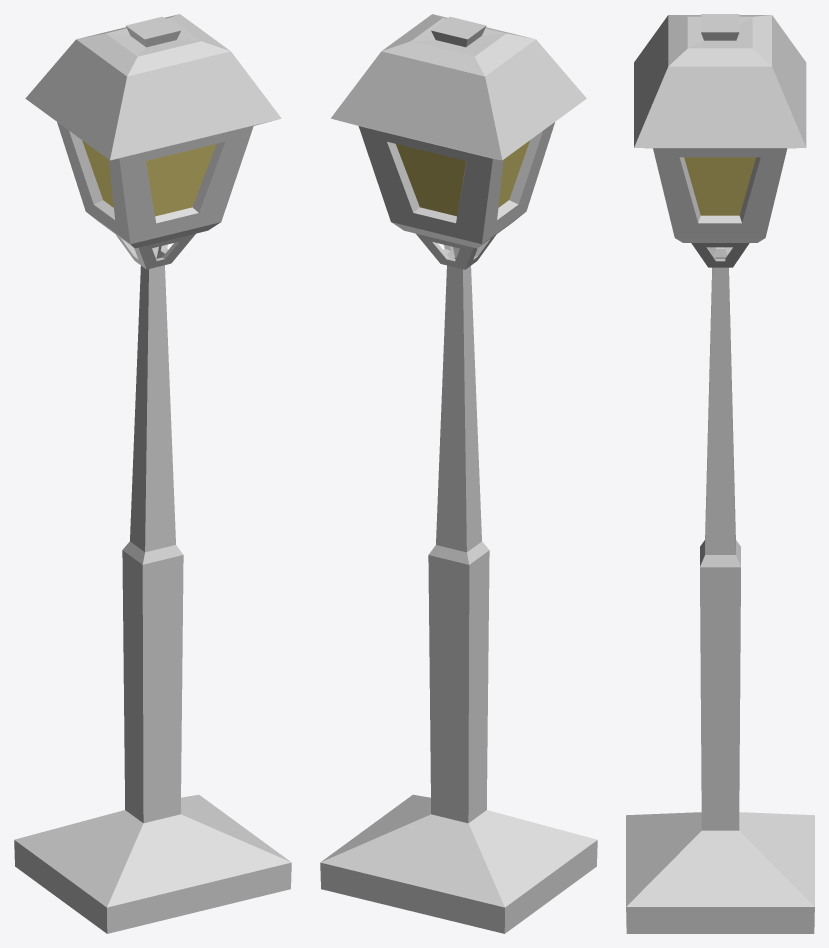
File: streetlight 3.fbx
3 views of the same model, side by side, from view 1: azimuth 30°, elevation 25°; view 2: azimuth 150°, elevation 25°; view 3: azimuth 270°, elevation 25° (orthographic).
Parts seen in each view (by area): view 1: Cube.080; view 2: Cube.080; view 3: Cube.080.
Boxes of the visible parts, x1,y1,x2,y2 form: Cube.080: [14, 14, 291, 933]; Cube.080: [320, 14, 597, 933]; Cube.080: [626, 14, 814, 933].
Bounding box in the file's own units: 196 × 860 × 170.
